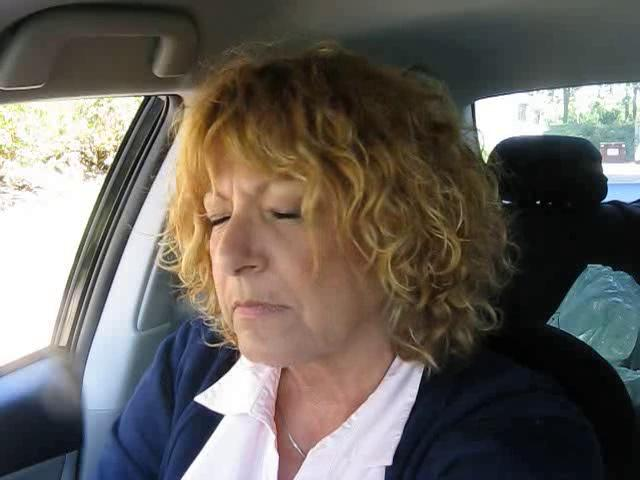close_eyeL: (195, 202, 240, 235)
close_eyeR: (254, 194, 324, 236)
no_yawn: (223, 280, 303, 339)
